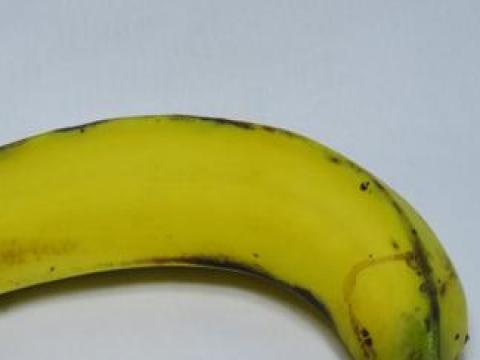freshripe: (0, 91, 479, 359)
